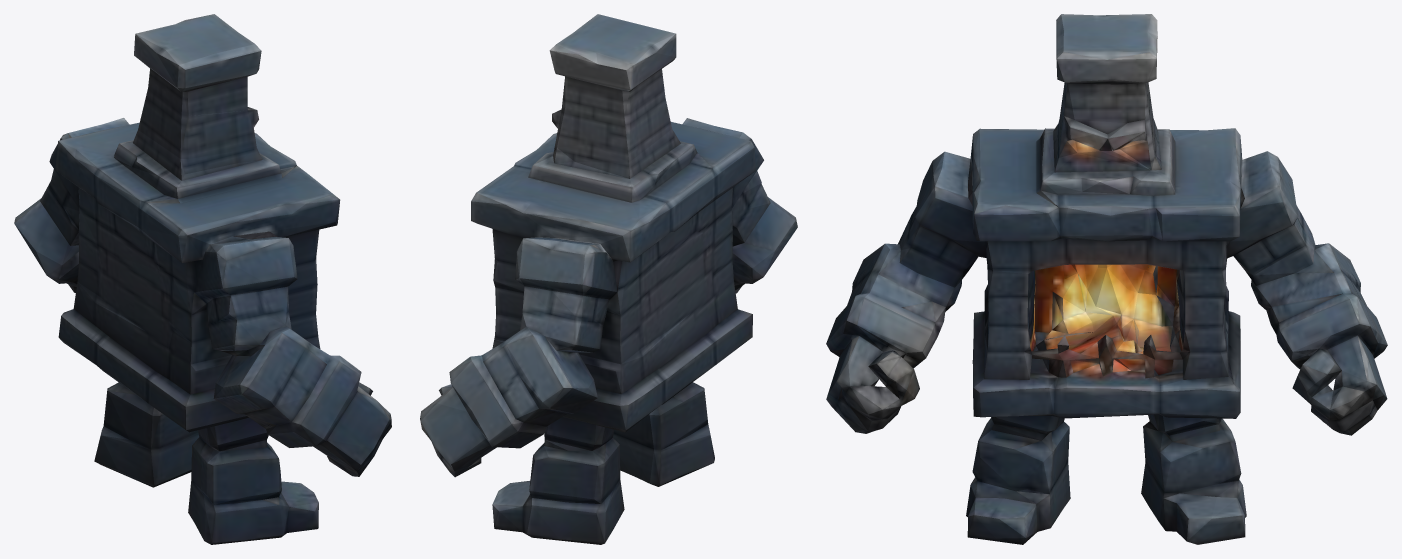
File: foe_hearthGolem.glb
The picture shows the model from 3 angles, left to right: view 1: azimuth 30°, elevation 25°; view 2: azimuth 150°, elevation 25°; view 3: azimuth 270°, elevation 25°; orthographic projection. The views are drawn at different scales.
Visible parts, largest first — view 1: tripo_node_d1e6069c-2154-458a-b23a-bea52912c462.001; view 2: tripo_node_d1e6069c-2154-458a-b23a-bea52912c462.001; view 3: tripo_node_d1e6069c-2154-458a-b23a-bea52912c462.001.
Boxes of the visible parts, x1,y1,x2,y2 form: tripo_node_d1e6069c-2154-458a-b23a-bea52912c462.001: [14, 14, 391, 544]; tripo_node_d1e6069c-2154-458a-b23a-bea52912c462.001: [420, 14, 797, 544]; tripo_node_d1e6069c-2154-458a-b23a-bea52912c462.001: [826, 14, 1387, 544].
Size of the model in its own units: 0.3445 by 0.9413 by 1.
Materials: 1 (1 with a texture image).
